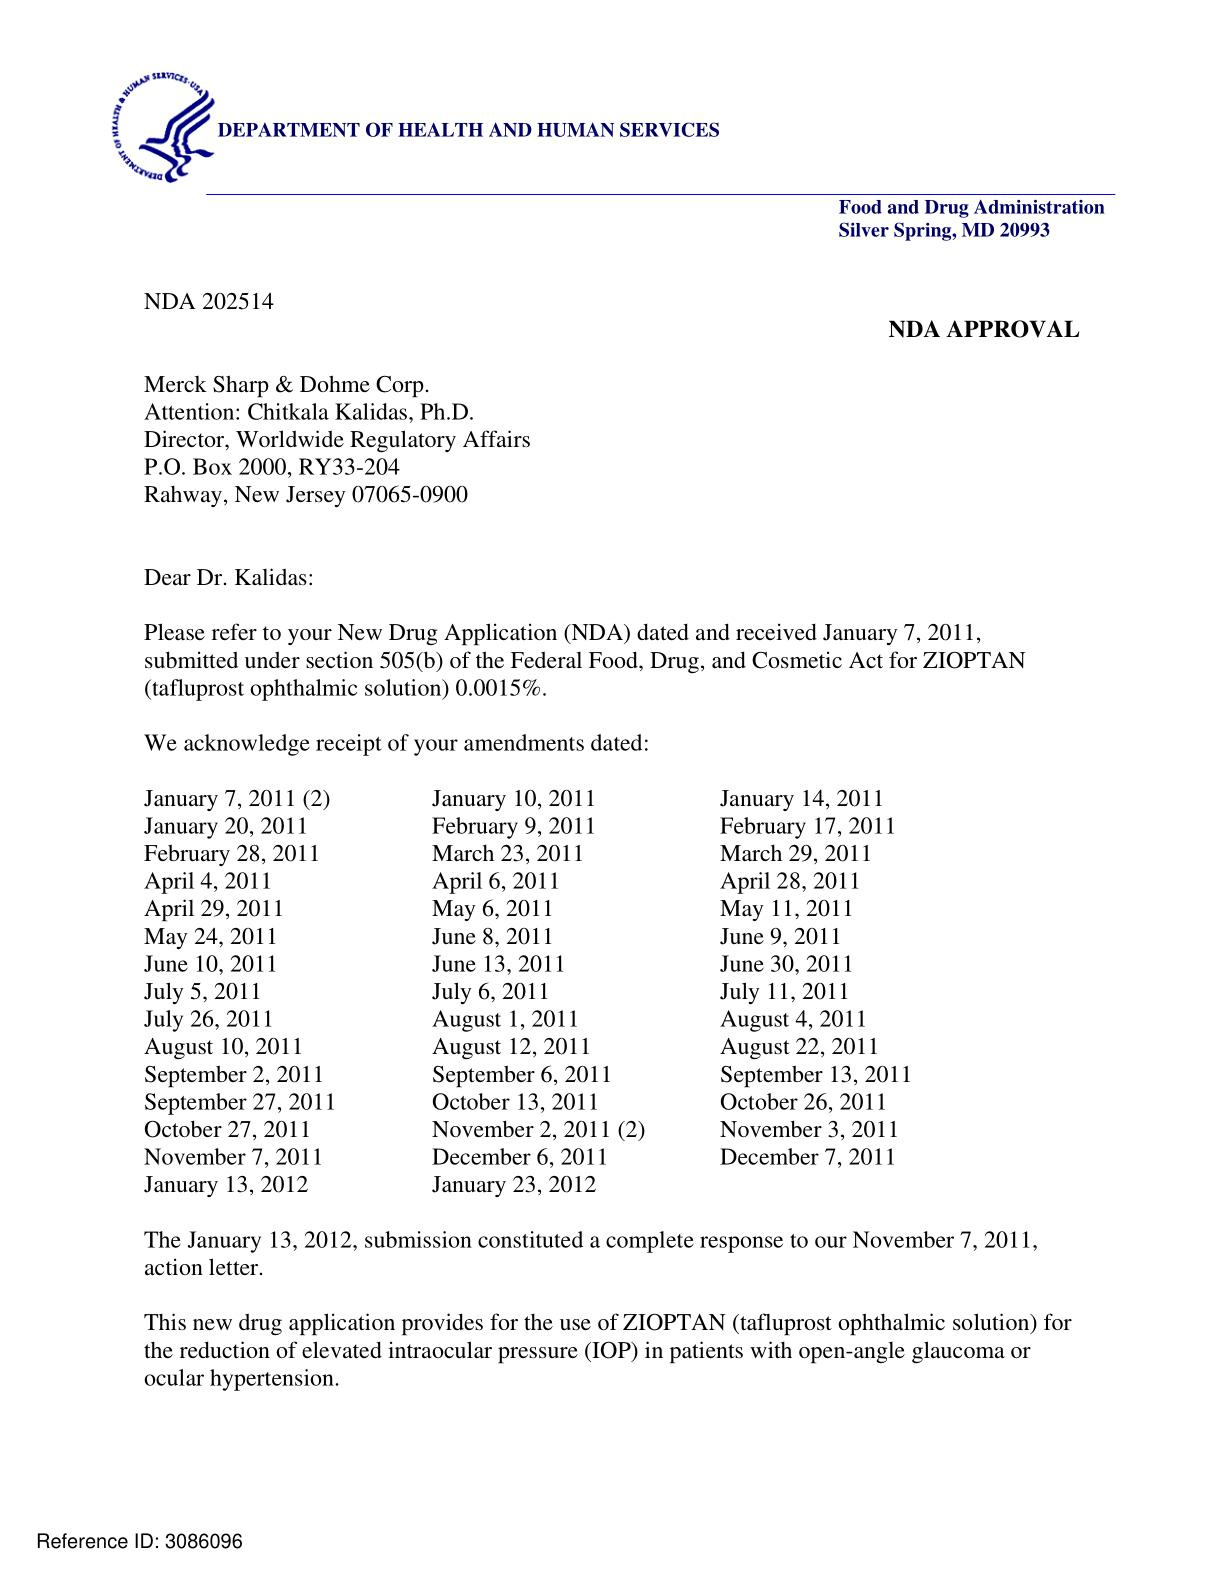nolines: (139, 786, 915, 1200)
